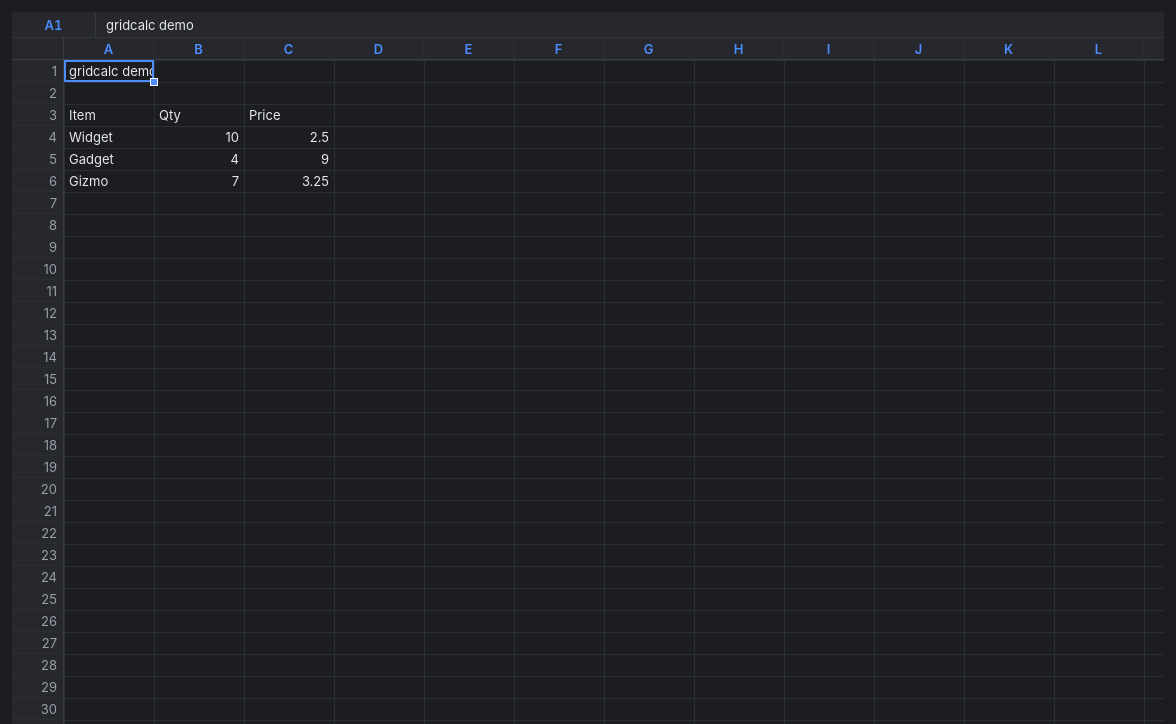
Scenario: the formula bar edits the active cell
Check: the text "gridcalc demo" is shown, box [64,60,154,82]
Replace the text in the field with class "formula-src" with "edited": coordinates (630, 24) [96,12,1164,37]
Then press Enter
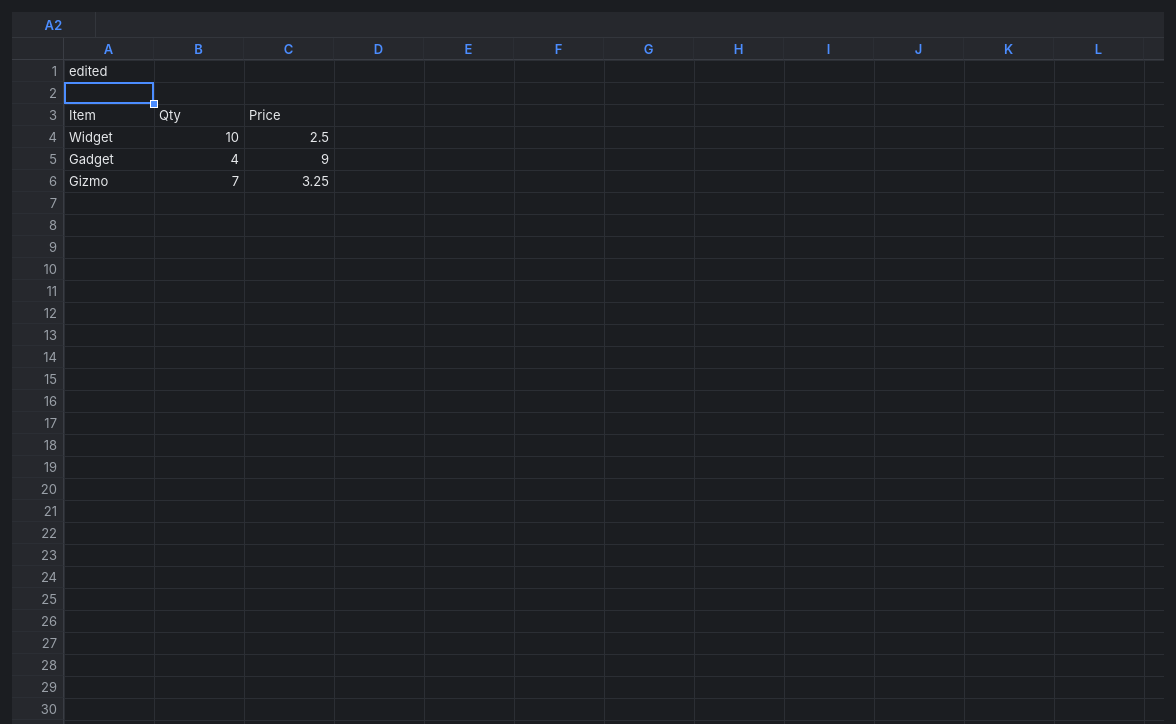
Check: the text "edited" is shown, box [69,63,107,79]
